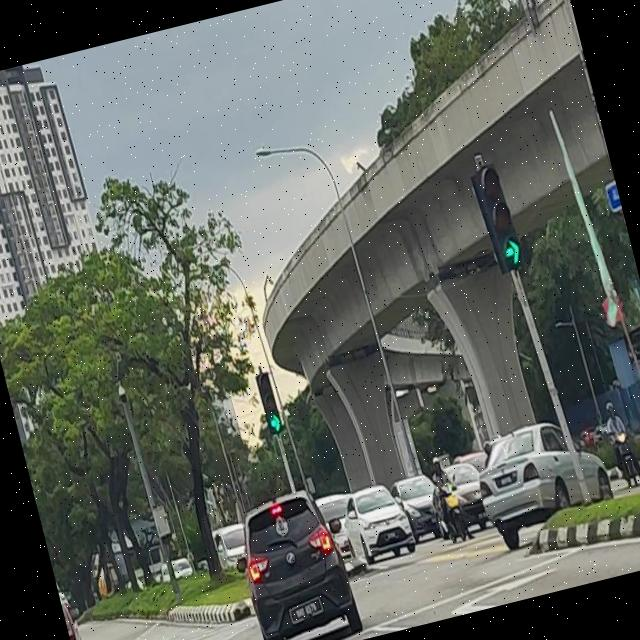green_light: (474, 160, 526, 274), (254, 371, 283, 436)
